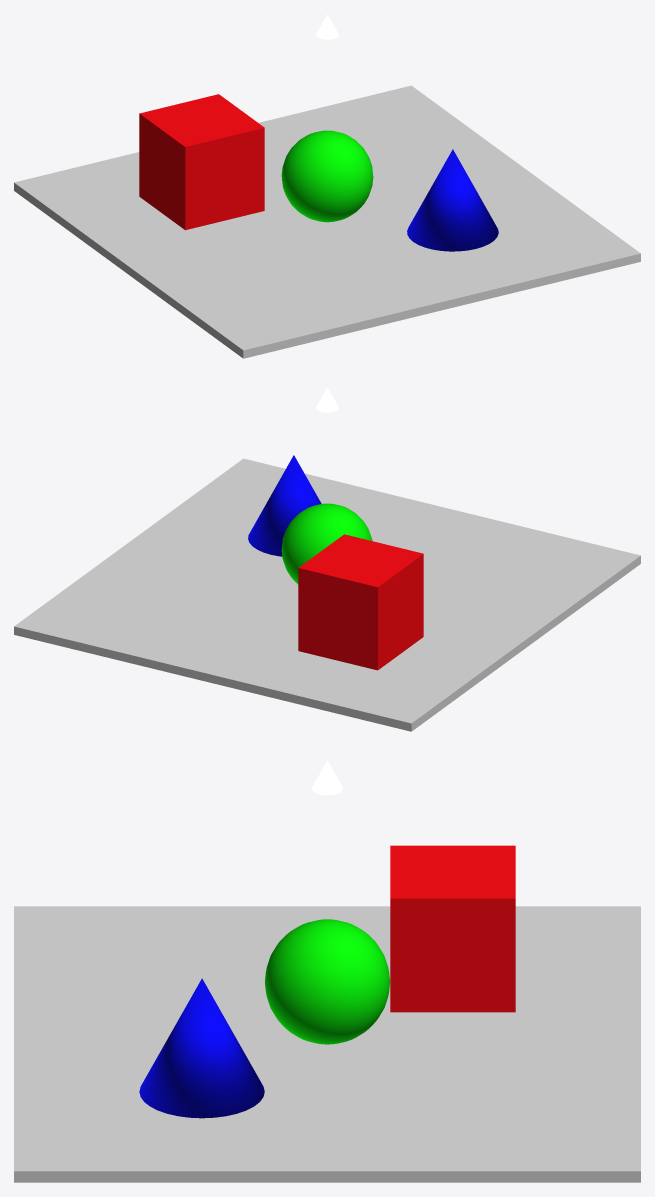
Rendered from shadows-spot.gltf.
3 views of the same model, one above another, from view 1: azimuth 30°, elevation 25°; view 2: azimuth 150°, elevation 25°; view 3: azimuth 270°, elevation 25° (orthographic). The views are drawn at different scales.
Visible parts, largest first — view 1: Cube, Cube.001, Sphere, Cone; view 2: Cube, Cube.001, Sphere, Cone; view 3: Cube, Cube.001, Sphere, Cone, Cone.001.
Boxes of the visible parts, x1,y1,x2,y2 form: Cube: (14,85,640,358); Cube.001: (139,94,264,230); Sphere: (281,130,373,222); Cone: (407,149,498,251); Cube: (14,458,640,731); Cube.001: (298,534,423,670); Sphere: (281,503,372,584); Cone: (248,455,321,556); Cube: (14,906,640,1182); Cube.001: (390,845,515,1012); Sphere: (265,919,389,1044); Cone: (139,978,264,1118); Cone.001: (312,760,342,795).
Size of the model in its own units: 10 by 5.1 by 10.
